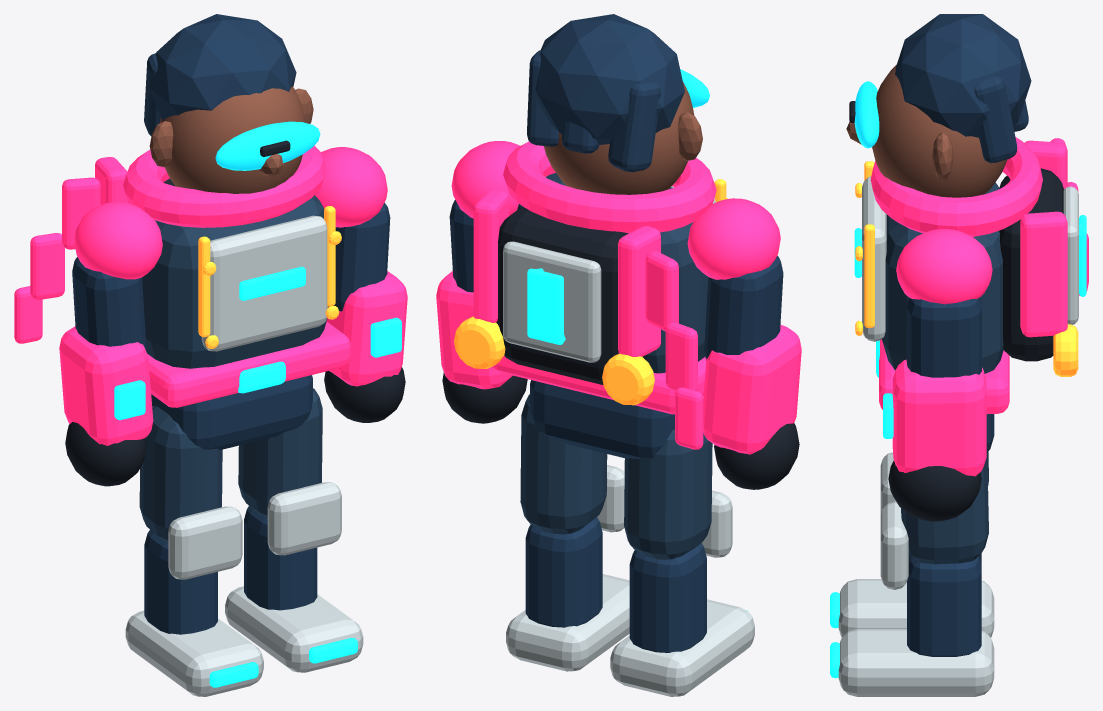
Rendered from neon-courier.glb.
3 renders of one model, left to right at view 1: azimuth 30°, elevation 25°; view 2: azimuth 150°, elevation 25°; view 3: azimuth 270°, elevation 25°, orthographic. The views are drawn at different scales.
Visible parts, largest first — view 1: ChestArmor, HumanoidDetail_HairCap, JacketTorso, HumanoidHead, HumanoidDetail_HoodCollar, ForearmGuard_L, Thigh_L, PelvisArmor, SignalShoe_L, SignalShoe_R, JacketHem, Thigh_R (+26 smaller); view 2: HumanoidDetail_HairCap, HumanoidDetail_HoodCollar, ForearmGuard_L, Thigh_L, RelayPack, Thigh_R, PackCeramicShell, Shin_L, Shin_R, PelvisArmor, SignalShoe_L, SignalShoe_R (+25 smaller); view 3: HumanoidDetail_HairCap, ForearmGuard_R, SignalShoe_R, HumanoidHead, HumanoidDetail_HoodCollar, Shin_R, PackFin_R, Shoulder_R, UpperArm_R, JacketTorso, RelayPack, Thigh_R (+15 smaller).
Boxes of the visible parts, x1=… form: ChestArmor: x1=201, y1=215, x2=327, y2=351; HumanoidDetail_HairCap: x1=148, y1=14, x2=296, y2=121; JacketTorso: x1=142, y1=195, x2=328, y2=368; HumanoidHead: x1=160, y1=86, x2=305, y2=193; HumanoidDetail_HoodCollar: x1=123, y1=145, x2=326, y2=227; ForearmGuard_L: x1=59, y1=326, x2=153, y2=445; Thigh_L: x1=139, y1=405, x2=222, y2=542; PelvisArmor: x1=151, y1=375, x2=312, y2=449; SignalShoe_L: x1=125, y1=610, x2=263, y2=696; SignalShoe_R: x1=225, y1=586, x2=363, y2=672; JacketHem: x1=147, y1=321, x2=350, y2=407; Thigh_R: x1=238, y1=388, x2=322, y2=518; HumanoidDetail_HairCap: x1=535, y1=14, x2=684, y2=144; HumanoidDetail_HoodCollar: x1=503, y1=141, x2=716, y2=233; ForearmGuard_L: x1=703, y1=325, x2=801, y2=454; Thigh_L: x1=624, y1=429, x2=712, y2=559; RelayPack: x1=496, y1=208, x2=646, y2=384; Thigh_R: x1=520, y1=394, x2=607, y2=534; PackCeramicShell: x1=503, y1=241, x2=601, y2=362; Shin_L: x1=629, y1=543, x2=706, y2=652; Shin_R: x1=525, y1=517, x2=602, y2=627; PelvisArmor: x1=530, y1=380, x2=674, y2=459; SignalShoe_L: x1=610, y1=599, x2=754, y2=696; SignalShoe_R: x1=506, y1=574, x2=629, y2=671; HumanoidDetail_HairCap: x1=895, y1=14, x2=1031, y2=137; ForearmGuard_R: x1=892, y1=359, x2=986, y2=476; SignalShoe_R: x1=838, y1=629, x2=994, y2=696; HumanoidHead: x1=872, y1=65, x2=1007, y2=197; HumanoidDetail_HoodCollar: x1=870, y1=137, x2=1042, y2=236; Shin_R: x1=907, y1=554, x2=981, y2=656; PackFin_R: x1=1020, y1=211, x2=1067, y2=337; Shoulder_R: x1=896, y1=229, x2=992, y2=304; UpperArm_R: x1=906, y1=297, x2=981, y2=377; JacketTorso: x1=882, y1=182, x2=1003, y2=373; RelayPack: x1=999, y1=168, x2=1063, y2=361; Thigh_R: x1=901, y1=453, x2=988, y2=564.
Bounding box in the file's own units: 1.25 × 2.27 × 0.8321.
